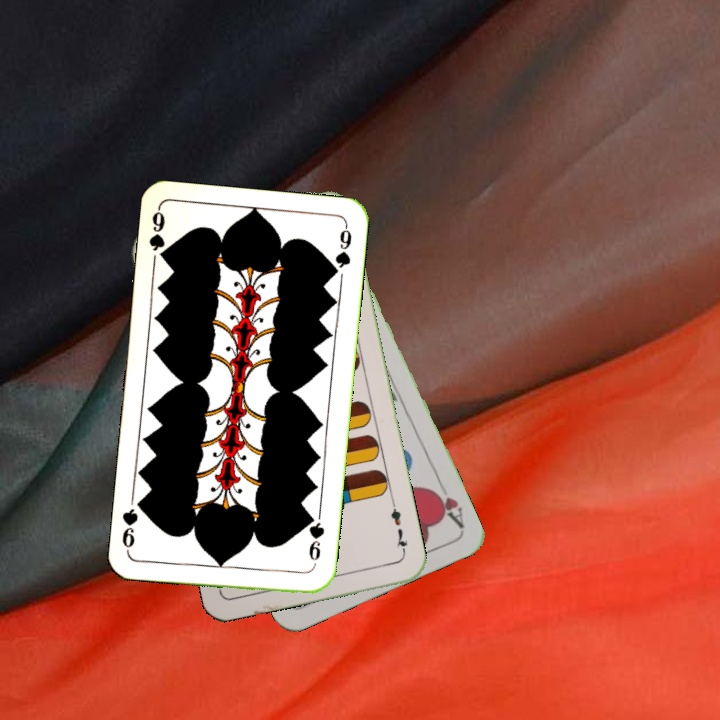E7: (386, 498, 410, 557)
G9: (145, 205, 171, 265), (304, 510, 327, 570)
HA: (427, 476, 467, 531)
